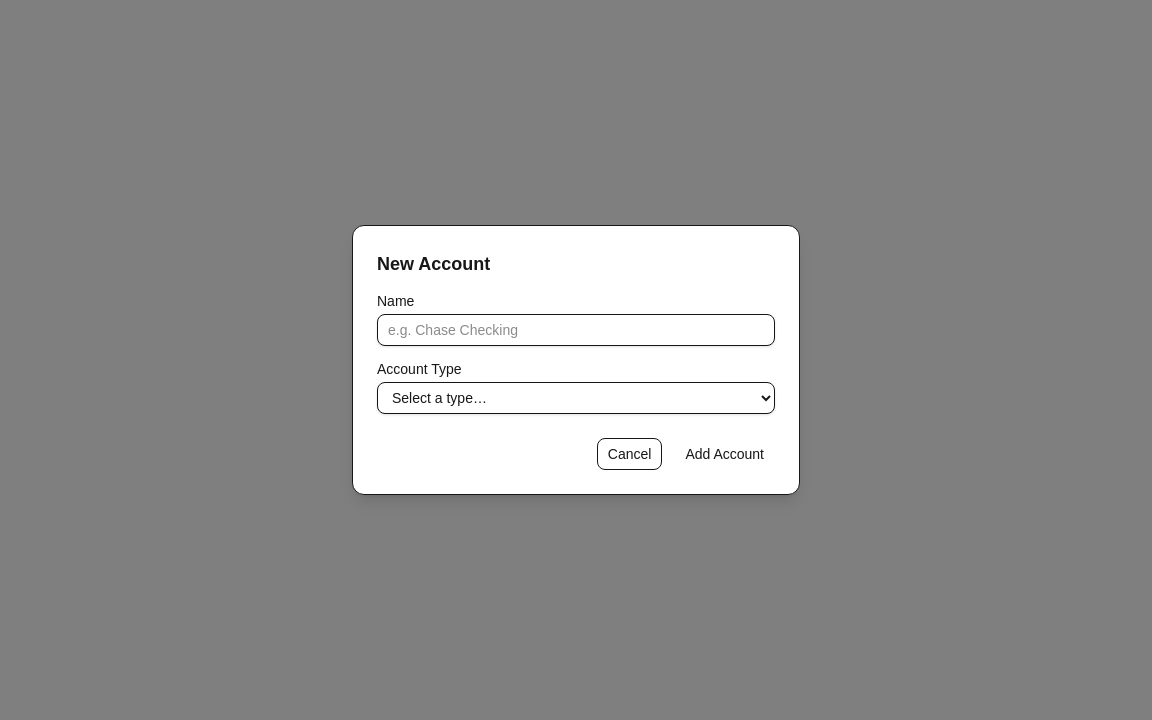
Scenario: CreateAccountDialog integration › Submitting persists the account via the service layer › shows target float error when submitting a cash account with no float
The image size is (1152, 720).
In the field labelled "Name": (576, 330) x1=377 y1=314 x2=775 y2=346, type "Checking"
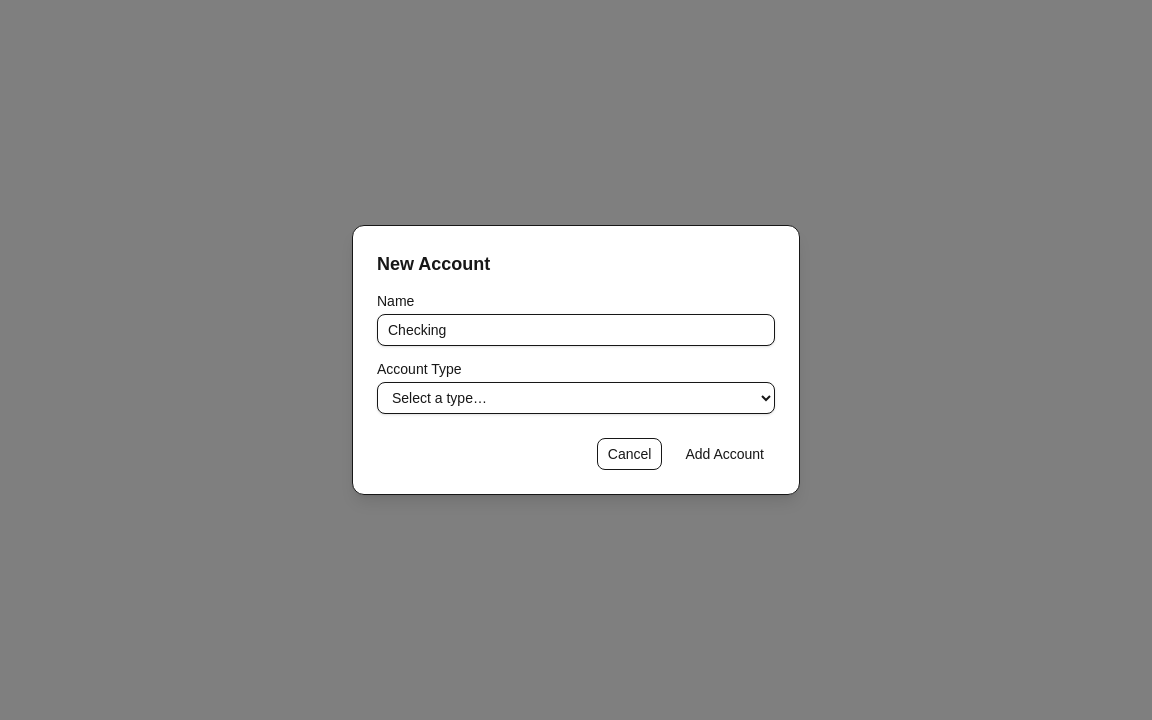
Select "Short-term (e.g. checking)" in the dropdown labelled "Account Type": (576, 398) x1=377 y1=382 x2=775 y2=414
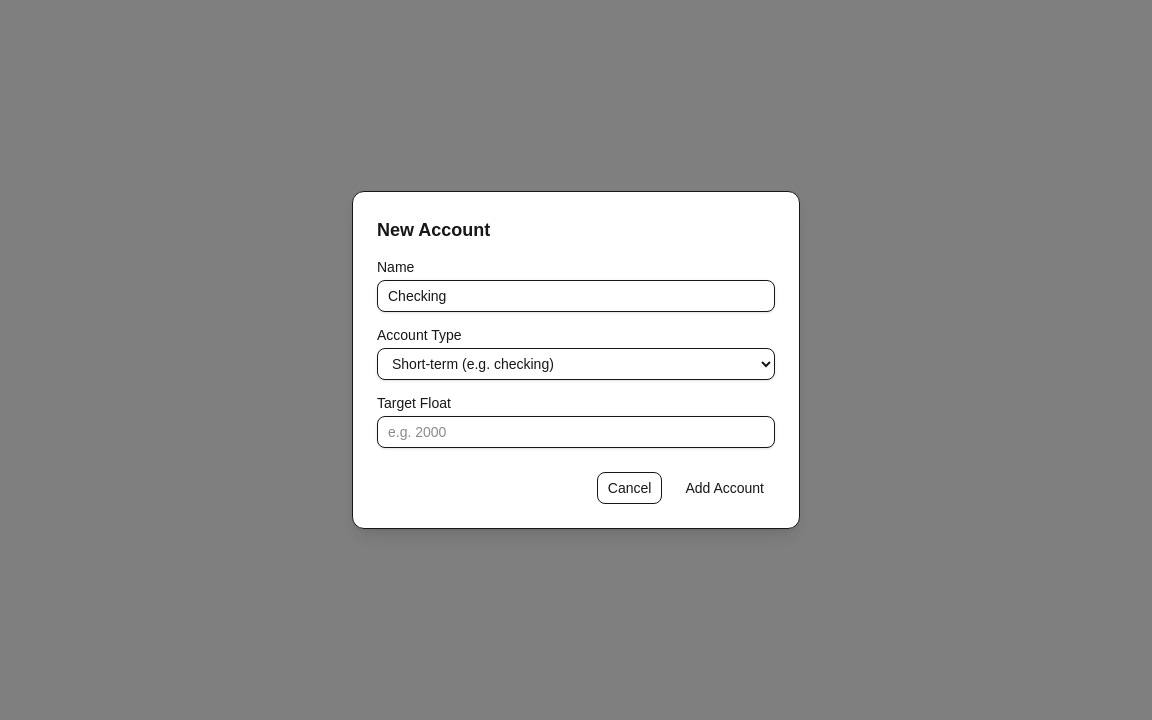
Submit the form, box x1=377 y1=260 x2=775 y2=504
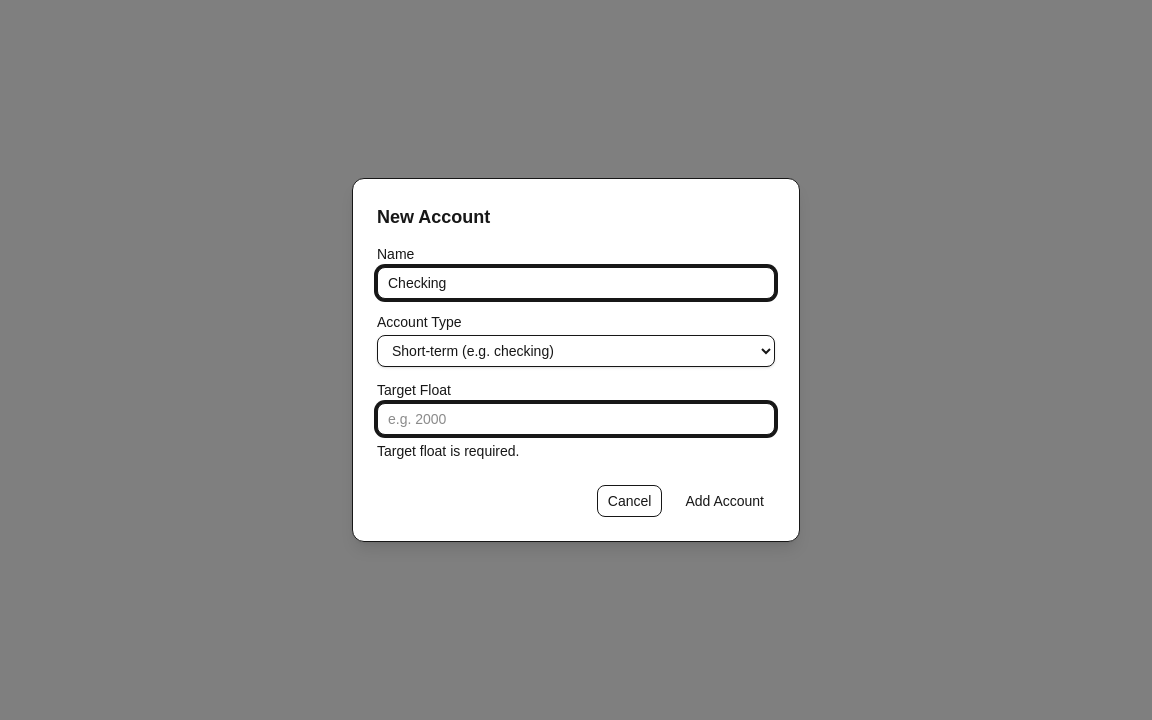
Now the text "Target float is required." is shown, box x1=377 y1=443 x2=519 y2=459
